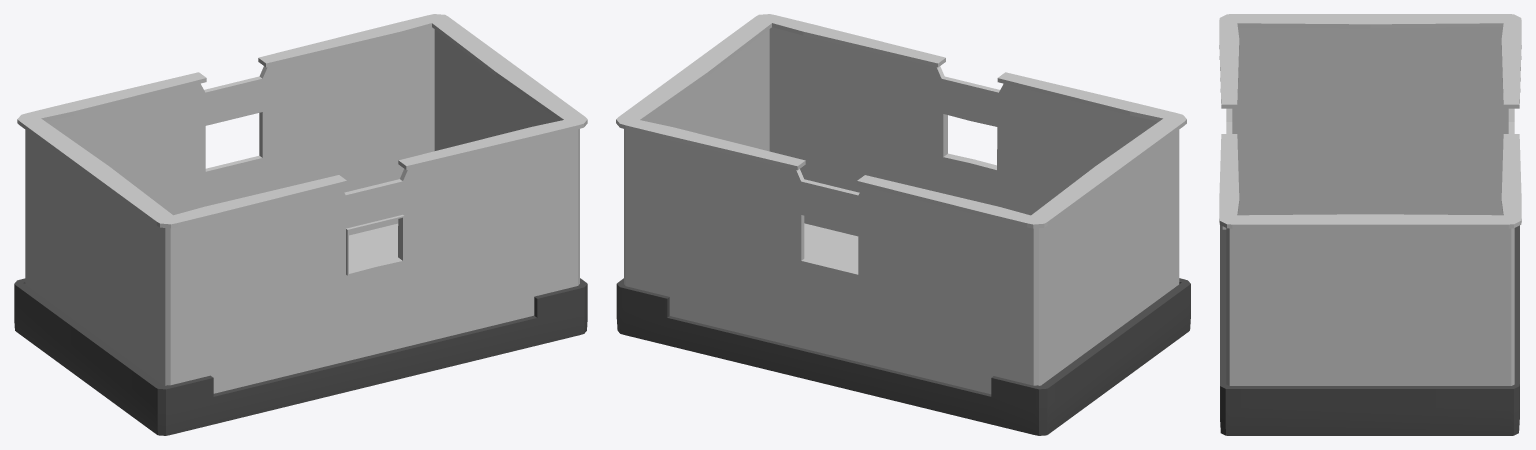
File: item_container.fbx
The picture shows the model from 3 angles, left to right: view 1: azimuth 30°, elevation 25°; view 2: azimuth 150°, elevation 25°; view 3: azimuth 270°, elevation 25°; orthographic projection.
Visible parts, largest first — view 1: item_container; view 2: item_container; view 3: item_container.
Part boxes in pixels (left/top/right/bottom): item_container: left=14, top=14, right=587, bottom=435; item_container: left=616, top=14, right=1190, bottom=435; item_container: left=1219, top=14, right=1521, bottom=435.
Size of the model in its own units: 122 by 57.22 by 73.55.
